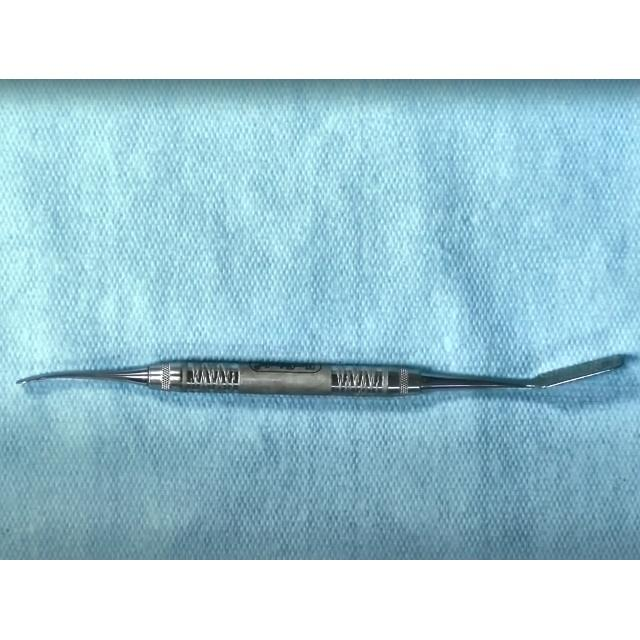elevador: (20, 355, 639, 400)
